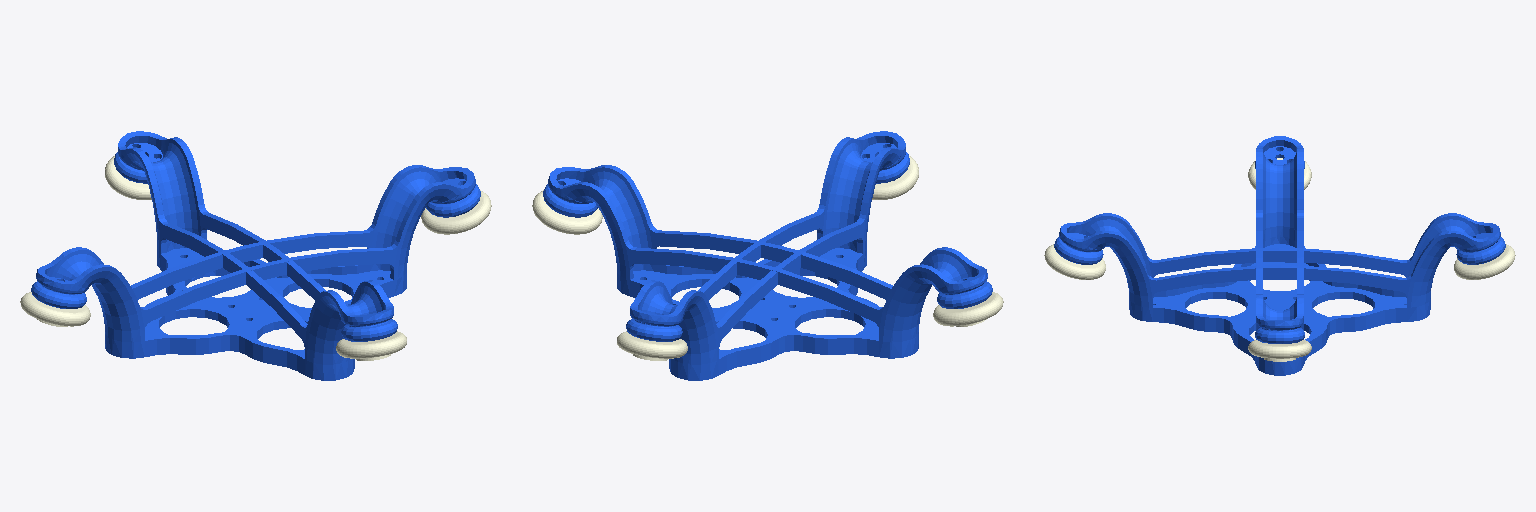
robot.urdf — urdfv3:
<?xml version="1.0" encoding="utf-8"?>
<!-- Leg mass = 104.5g -->
<robot
  name="urdfv3">
  <link
    name="base_link">
    <inertial>
      <origin
        xyz="-1.3924E-06 1.7287E-08 0.022244"
        rpy="0 0 0" />
      <mass
        value="0.16244" />
      <inertia
        ixx="0.00059409"
        ixy="-1.7928E-10"
        ixz="-3.4405E-09"
        iyy="0.0005941"
        iyz="3.8719E-11"
        izz="0.0010669" />
    </inertial>
    <visual>
      <origin
        xyz="0 0 0"
        rpy="0 0 0" />
      <geometry>
        <mesh
          filename="package://urdfv3/meshes/base_link.STL" />
      </geometry>
      <material
        name="TPU">
        <color
          rgba="0.21961 0.47843 1 1" />
      </material>
    </visual>
    <collision>
      <origin
        xyz="0 0 0"
        rpy="0 0 0" />
      <geometry>
        <mesh
          filename="package://urdfv3/meshes/base_link.STL" />
      </geometry>
    </collision>
  </link>
  <link
    name="l1_1">
    <inertial>
      <origin
        xyz="0 -5.8677E-19 0"
        rpy="0 0 0" />
      <mass
        value="0.006333" />
      <inertia
        ixx="6.23E-07"
        ixy="0.9885E-22"
        ixz="-1.11174E-22"
        iyy="6.23E-07"
        iyz="-2.99474E-24"
        izz="1.19553E-06" />
    </inertial>
    <visual>
      <origin
        xyz="0 0 0"
        rpy="0 0 0" />
      <geometry>
        <mesh
          filename="package://urdfv3/meshes/l1.STL" />
      </geometry>
      <material
        name="Elastico">
        <color
          rgba="1 1 0.9 1" />
      </material>
    </visual>
    <collision>
      <origin
        xyz="0 0 0"
        rpy="0 0 0" />
      <geometry>
        <mesh
          filename="package://urdfv3/meshes/l1.STL" />
      </geometry>
    </collision>
  </link>
  <joint
    name="j1_0"
    type="fixed">
    <origin
      xyz="0 -0.1288 0.035097"
      rpy="0 -0.2618 -1.5708" />
    <parent
      link="base_link" />
    <child
      link="l1_1" />
    <axis
      xyz="0 0 0" />
  </joint>
  <link
    name="l1_2">
    <inertial>
      <origin
        xyz="0 3.3184E-20 0"
        rpy="0 0 0" />
      <mass
        value="0.0010556" />
      <inertia
        ixx="2.8047E-08"
        ixy="-9.51715E-25"
        ixz="8.0453E-24"
        iyy="2.8047E-08"
        iyz="-4.6553E-24"
        izz="5.5379E-08" />
    </inertial>
    <visual>
      <origin
        xyz="0 0 0"
        rpy="0 0 0" />
      <geometry>
        <mesh
          filename="package://urdfv3/meshes/l2.STL" />
      </geometry>
      <material
        name="Elastico">
        <color
          rgba="1 1 0.9 1" />
      </material>
    </visual>
    <collision>
      <origin
        xyz="0 0 0"
        rpy="0 0 0" />
      <geometry>
        <mesh
          filename="package://urdfv3/meshes/l2.STL" />
      </geometry>
    </collision>
  </link>
  <joint
    name="j1_p1"
    type="prismatic">
    <origin
      xyz="0 0 -0.006"
      rpy="0 0 0" />
    <parent
      link="l1_1" />
    <child
      link="l1_2" />
    <axis
      xyz="0 0 1" />
    <limit
      lower="-0.001"
      upper="0.001"
      effort="0"
      velocity="0" />
  </joint>
  <link
    name="l1_3">
    <inertial>
      <origin
        xyz="0 -1.0812E-19 -3.4694E-18"
        rpy="0 0 0" />
      <mass
        value="0.0010556" />
      <inertia
        ixx="2.8047E-08"
        ixy="-8.7806E-26"
        ixz="-1.4624E-24"
        iyy="2.8047E-08"
        iyz="-1.71765E-24"
        izz="5.5379E-08" />
    </inertial>
    <visual>
      <origin
        xyz="0 0 0"
        rpy="0 0 0" />
      <geometry>
        <mesh
          filename="package://urdfv3/meshes/l2.STL" />
      </geometry>
      <material
        name="Elastico">
        <color
          rgba="1 1 0.9 1" />
      </material>
    </visual>
    <collision>
      <origin
        xyz="0 0 0"
        rpy="0 0 0" />
      <geometry>
        <mesh
          filename="package://urdfv3/meshes/l2.STL" />
      </geometry>
    </collision>
  </link>
  <joint
    name="j1_rx1"
    type="revolute">
    <origin
      xyz="0 0 0"
      rpy="0 0 0" />
    <parent
      link="l1_2" />
    <child
      link="l1_3" />
    <axis
      xyz="1 0 0" />
    <limit
      lower="-0.2"
      upper="0.2"
      effort="0"
      velocity="0" />
  </joint>
  <link
    name="l1_4">
    <inertial>
      <origin
        xyz="0 -1.1116E-19 3.4694E-18"
        rpy="0 0 0" />
      <mass
        value="0.0010556" />
      <inertia
        ixx="2.8047E-08"
        ixy="4.764E-26"
        ixz="1.6544E-24"
        iyy="2.8047E-08"
        iyz="-1.7301E-24"
        izz="5.5379E-08" />
    </inertial>
    <visual>
      <origin
        xyz="0 0 0"
        rpy="0 0 0" />
      <geometry>
        <mesh
          filename="package://urdfv3/meshes/l2.STL" />
      </geometry>
      <material
        name="Elastico">
        <color
          rgba="1 1 0.9 1" />
      </material>
    </visual>
    <collision>
      <origin
        xyz="0 0 0"
        rpy="0 0 0" />
      <geometry>
        <mesh
          filename="package://urdfv3/meshes/l2.STL" />
      </geometry>
    </collision>
  </link>
  <joint
    name="j1_ry1"
    type="revolute">
    <origin
      xyz="0 0 0"
      rpy="0 0 0" />
    <parent
      link="l1_3" />
    <child
      link="l1_4" />
    <axis
      xyz="0 1 0" />
    <limit
      lower="-0.2"
      upper="0.2"
      effort="0"
      velocity="0" />
  </joint>
  <link
    name="l2_1">
    <inertial>
      <origin
        xyz="0 -7.034E-19 6.9389E-18"
        rpy="0 0 0" />
      <mass
        value="0.006333" />
      <inertia
        ixx="6.23E-07"
        ixy="8.6395E-23"
        ixz="-1.4558E-22"
        iyy="6.23E-07"
        iyz="-1.43E-23"
        izz="1.19553E-06" />
    </inertial>
    <visual>
      <origin
        xyz="0 0 0"
        rpy="0 0 0" />
      <geometry>
        <mesh
          filename="package://urdfv3/meshes/l1.STL" />
      </geometry>
      <material
        name="Elastico">
        <color
          rgba="1 1 0.9 1" />
      </material>
    </visual>
    <collision>
      <origin
        xyz="0 0 0"
        rpy="0 0 0" />
      <geometry>
        <mesh
          filename="package://urdfv3/meshes/l1.STL" />
      </geometry>
    </collision>
  </link>
  <joint
    name="j2_0"
    type="fixed">
    <origin
      xyz="0.1288 0 0.035097"
      rpy="0 -0.2618 0" />
    <parent
      link="base_link" />
    <child
      link="l2_1" />
    <axis
      xyz="0 0 0" />
  </joint>
  <link
    name="l2_2">
    <inertial>
      <origin
        xyz="0 4.5623E-19 3.4694E-18"
        rpy="0 0 0" />
      <mass
        value="0.0010556" />
      <inertia
        ixx="2.8047E-08"
        ixy="-5.2491E-25"
        ixz="6.6174E-24"
        iyy="2.8047E-08"
        iyz="-2.3888E-24"
        izz="5.5379E-08" />
    </inertial>
    <visual>
      <origin
        xyz="0 0 0"
        rpy="0 0 0" />
      <geometry>
        <mesh
          filename="package://urdfv3/meshes/l2.STL" />
      </geometry>
      <material
        name="Elastico">
        <color
          rgba="1 1 0.9 1" />
      </material>
    </visual>
    <collision>
      <origin
        xyz="0 0 0"
        rpy="0 0 0" />
      <geometry>
        <mesh
          filename="package://urdfv3/meshes/l2.STL" />
      </geometry>
    </collision>
  </link>
  <joint
    name="j2_p1"
    type="prismatic">
    <origin
      xyz="0 0 -0.006"
      rpy="0 0 0" />
    <parent
      link="l2_1" />
    <child
      link="l2_2" />
    <axis
      xyz="0 0 1" />
    <limit
      lower="-0.001"
      upper="0.001"
      effort="0"
      velocity="0" />
  </joint>
  <link
    name="l2_3">
    <inertial>
      <origin
        xyz="0 1.1878E-19 0"
        rpy="0 0 0" />
      <mass
        value="0.0010556" />
      <inertia
        ixx="2.8047E-08"
        ixy="-4.0475E-26"
        ixz="2.068E-24"
        iyy="2.8047E-08"
        iyz="-1.1492E-25"
        izz="5.5379E-08" />
    </inertial>
    <visual>
      <origin
        xyz="0 0 0"
        rpy="0 0 0" />
      <geometry>
        <mesh
          filename="package://urdfv3/meshes/l2.STL" />
      </geometry>
      <material
        name="Elastico">
        <color
          rgba="1 1 0.9 1" />
      </material>
    </visual>
    <collision>
      <origin
        xyz="0 0 0"
        rpy="0 0 0" />
      <geometry>
        <mesh
          filename="package://urdfv3/meshes/l2.STL" />
      </geometry>
    </collision>
  </link>
  <joint
    name="j2_rx1"
    type="revolute">
    <origin
      xyz="0 0 0"
      rpy="0 0 0" />
    <parent
      link="l2_2" />
    <child
      link="l2_3" />
    <axis
      xyz="1 0 0" />
    <limit
      lower="-0.2"
      upper="0.2"
      effort="0"
      velocity="0" />
  </joint>
  <link
    name="l2_4">
    <inertial>
      <origin
        xyz="0 6.3442E-19 3.4694E-18"
        rpy="0 0 0" />
      <mass
        value="0.0010556" />
      <inertia
        ixx="2.8047E-08"
        ixy="8.5299E-26"
        ixz="2.8951E-24"
        iyy="2.8047E-08"
        iyz="-1.3763E-24"
        izz="5.5379E-08" />
    </inertial>
    <visual>
      <origin
        xyz="0 0 0"
        rpy="0 0 0" />
      <geometry>
        <mesh
          filename="package://urdfv3/meshes/l2.STL" />
      </geometry>
      <material
        name="Elastico">
        <color
          rgba="1 1 0.9 1" />
      </material>
    </visual>
    <collision>
      <origin
        xyz="0 0 0"
        rpy="0 0 0" />
      <geometry>
        <mesh
          filename="package://urdfv3/meshes/l2.STL" />
      </geometry>
    </collision>
  </link>
  <joint
    name="j2_ry1"
    type="revolute">
    <origin
      xyz="0 0 0"
      rpy="0 0 0" />
    <parent
      link="l2_3" />
    <child
      link="l2_4" />
    <axis
      xyz="0 1 0" />
    <limit
      lower="-0.2"
      upper="0.2"
      effort="0"
      velocity="0" />
  </joint>
  <link
    name="l3_1">
    <inertial>
      <origin
        xyz="0 -7.8102E-19 -6.9389E-18"
        rpy="0 0 0" />
      <mass
        value="0.006333" />
      <inertia
        ixx="6.23E-07"
        ixy="1.1145E-22"
        ixz="-6.6174E-23"
        iyy="6.23E-07"
        iyz="3.6027E-24"
        izz="1.19553E-06" />
    </inertial>
    <visual>
      <origin
        xyz="0 0 0"
        rpy="0 0 0" />
      <geometry>
        <mesh
          filename="package://urdfv3/meshes/l1.STL" />
      </geometry>
      <material
        name="Elastico">
        <color
          rgba="1 1 0.9 1" />
      </material>
    </visual>
    <collision>
      <origin
        xyz="0 0 0"
        rpy="0 0 0" />
      <geometry>
        <mesh
          filename="package://urdfv3/meshes/l1.STL" />
      </geometry>
    </collision>
  </link>
  <joint
    name="j3_0"
    type="fixed">
    <origin
      xyz="0 0.1288 0.035097"
      rpy="0 -0.2618 1.5708" />
    <parent
      link="base_link" />
    <child
      link="l3_1" />
    <axis
      xyz="0 0 0" />
  </joint>
  <link
    name="l3_2">
    <inertial>
      <origin
        xyz="0 1.5954E-19 -6.9389E-18"
        rpy="0 0 0" />
      <mass
        value="0.0010556" />
      <inertia
        ixx="2.8047E-08"
        ixy="-5.3647E-25"
        ixz="8.0453E-24"
        iyy="2.8047E-08"
        iyz="-2.2598E-24"
        izz="5.5379E-08" />
    </inertial>
    <visual>
      <origin
        xyz="0 0 0"
        rpy="0 0 0" />
      <geometry>
        <mesh
          filename="package://urdfv3/meshes/l2.STL" />
      </geometry>
      <material
        name="Elastico">
        <color
          rgba="1 1 0.9 1" />
      </material>
    </visual>
    <collision>
      <origin
        xyz="0 0 0"
        rpy="0 0 0" />
      <geometry>
        <mesh
          filename="package://urdfv3/meshes/l2.STL" />
      </geometry>
    </collision>
  </link>
  <joint
    name="j3_p1"
    type="prismatic">
    <origin
      xyz="0 0 -0.006"
      rpy="0 0 0" />
    <parent
      link="l3_1" />
    <child
      link="l3_2" />
    <axis
      xyz="0 0 1" />
    <limit
      lower="-0.001"
      upper="0.001"
      effort="0"
      velocity="0" />
  </joint>
  <link
    name="l3_3">
    <inertial>
      <origin
        xyz="0 -1.4524E-19 -3.4694E-18"
        rpy="0 0 0" />
      <mass
        value="0.0010556" />
      <inertia
        ixx="2.8047E-08"
        ixy="-5.3701E-26"
        ixz="0"
        iyy="2.8047E-08"
        iyz="-5.1009E-25"
        izz="5.5379E-08" />
    </inertial>
    <visual>
      <origin
        xyz="0 0 0"
        rpy="0 0 0" />
      <geometry>
        <mesh
          filename="package://urdfv3/meshes/l2.STL" />
      </geometry>
      <material
        name="Elastico">
        <color
          rgba="1 1 0.9 1" />
      </material>
    </visual>
    <collision>
      <origin
        xyz="0 0 0"
        rpy="0 0 0" />
      <geometry>
        <mesh
          filename="package://urdfv3/meshes/l2.STL" />
      </geometry>
    </collision>
  </link>
  <joint
    name="j3_rx1"
    type="revolute">
    <origin
      xyz="0 0 0"
      rpy="0 0 0" />
    <parent
      link="l3_2" />
    <child
      link="l3_3" />
    <axis
      xyz="1 0 0" />
    <limit
      lower="-0.2"
      upper="0.2"
      effort="0"
      velocity="0" />
  </joint>
  <link
    name="l3_4">
    <inertial>
      <origin
        xyz="0 -1.3516E-21 -3.4694E-18"
        rpy="0 0 0" />
      <mass
        value="0.0010556" />
      <inertia
        ixx="2.8047E-08"
        ixy="3.1225E-26"
        ixz="4.1359E-25"
        iyy="2.8047E-08"
        iyz="-1.37E-24"
        izz="5.5379E-08" />
    </inertial>
    <visual>
      <origin
        xyz="0 0 0"
        rpy="0 0 0" />
      <geometry>
        <mesh
          filename="package://urdfv3/meshes/l2.STL" />
      </geometry>
      <material
        name="Elastico">
        <color
          rgba="1 1 0.9 1" />
      </material>
    </visual>
    <collision>
      <origin
        xyz="0 0 0"
        rpy="0 0 0" />
      <geometry>
        <mesh
          filename="package://urdfv3/meshes/l2.STL" />
      </geometry>
    </collision>
  </link>
  <joint
    name="j3_ry1"
    type="revolute">
    <origin
      xyz="0 0 0"
      rpy="0 0 0" />
    <parent
      link="l3_3" />
    <child
      link="l3_4" />
    <axis
      xyz="0 1 0" />
    <limit
      lower="-0.2"
      upper="0.2"
      effort="0"
      velocity="0" />
  </joint>
  <link
    name="l4_1">
    <inertial>
      <origin
        xyz="0 -5.8677E-19 0"
        rpy="0 0 0" />
      <mass
        value="0.006333" />
      <inertia
        ixx="6.23E-07"
        ixy="0.9885E-22"
        ixz="-1.11174E-22"
        iyy="6.23E-07"
        iyz="-2.99474E-24"
        izz="1.19553E-06" />
    </inertial>
    <visual>
      <origin
        xyz="0 0 0"
        rpy="0 0 0" />
      <geometry>
        <mesh
          filename="package://urdfv3/meshes/l1.STL" />
      </geometry>
      <material
        name="Elastico">
          <color
          rgba="1 1 0.9 1" />
      </material>
    </visual>
    <collision>
      <origin
        xyz="0 0 0"
        rpy="0 0 0" />
      <geometry>
        <mesh
          filename="package://urdfv3/meshes/l1.STL" />
      </geometry>
    </collision>
  </link>
  <joint
    name="j4_0"
    type="fixed">
    <origin
      xyz="-0.1288 0 0.035097"
      rpy="0 -0.2618 3.1416" />
    <parent
      link="base_link" />
    <child
      link="l4_1" />
    <axis
      xyz="0 0 0" />
  </joint>
  <link
    name="l4_2">
    <inertial>
      <origin
        xyz="0 4.8757E-19 -6.9389E-18"
        rpy="0 0 0" />
      <mass
        value="0.0010556" />
      <inertia
        ixx="2.8047E-08"
        ixy="-4.7764E-25"
        ixz="4.1359E-24"
        iyy="2.8047E-08"
        iyz="-2.3286E-24"
        izz="5.5379E-08" />
    </inertial>
    <visual>
      <origin
        xyz="0 0 0"
        rpy="0 0 0" />
      <geometry>
        <mesh
          filename="package://urdfv3/meshes/l2.STL" />
      </geometry>
      <material
        name="Elastico">
        <color
          rgba="1 1 0.9 1" />
      </material>
    </visual>
    <collision>
      <origin
        xyz="0 0 0"
        rpy="0 0 0" />
      <geometry>
        <mesh
          filename="package://urdfv3/meshes/l2.STL" />
      </geometry>
    </collision>
  </link>
  <joint
    name="j4_p1"
    type="prismatic">
    <origin
      xyz="0 0 -0.006"
      rpy="0 0 0" />
    <parent
      link="l4_1" />
    <child
      link="l4_2" />
    <axis
      xyz="0 0 1" />
    <limit
      lower="-0.001"
      upper="0.001"
      effort="0"
      velocity="0" />
  </joint>
  <link
    name="l4_3">
    <inertial>
      <origin
        xyz="0 3.35804994851586E-19 -3.46944695195361E-18"
        rpy="0 0 0" />
      <mass
        value="0.001055602604182062" />
      <inertia
        ixx="2.80470246735844E-08"
        ixy="-1.13157348651793E-26"
        ixz="2.06795153138251E-24"
        iyy="2.80470246735844E-08"
        iyz="-5.15861549781706E-26"
        izz="3.13225584022334E-08" />
    </inertial>
    <visual>
      <origin
        xyz="0 0 0"
        rpy="0 0 0" />
      <geometry>
        <mesh
          filename="package://urdfv3/meshes/l2.STL" />
      </geometry>
      <material
        name="Elastico">
        <color
          rgba="1 1 0.9 1" />
      </material>
    </visual>
    <collision>
      <origin
        xyz="0 0 0"
        rpy="0 0 0" />
      <geometry>
        <mesh
          filename="package://urdfv3/meshes/l2.STL" />
      </geometry>
    </collision>
  </link>
  <joint
    name="j4_rx1"
    type="revolute">
    <origin
      xyz="0 0 0"
      rpy="0 0 0" />
    <parent
      link="l4_2" />
    <child
      link="l4_3" />
    <axis
      xyz="1 0 0" />
    <limit
      lower="-0.2"
      upper="0.2"
      effort="0"
      velocity="0" />
  </joint>
  <link
    name="l4_4">
    <inertial>
      <origin
        xyz="0 3.93106983422941E-19 -3.46944695195361E-18"
        rpy="0 0 0" />
      <mass
        value="0.001055602604182062" />
      <inertia
        ixx="2.80470246735844E-08"
        ixy="1.20075620032431E-25"
        ixz="1.65436122510599E-24"
        iyy="2.80470246735844E-08"
        iyz="-1.30934663161182E-24"
        izz="3.13225584022333E-08" />
    </inertial>
    <visual>
      <origin
        xyz="0 0 0"
        rpy="0 0 0" />
      <geometry>
        <mesh
          filename="package://urdfv3/meshes/l2.STL" />
      </geometry>
      <material
        name="Elastico">
        <color
          rgba="1 1 0.9 1" />
      </material>
    </visual>
    <collision>
      <origin
        xyz="0 0 0"
        rpy="0 0 0" />
      <geometry>
        <mesh
          filename="package://urdfv3/meshes/l2.STL" />
      </geometry>
    </collision>
  </link>
  <joint
    name="j4_ry1"
    type="revolute">
    <origin
      xyz="0 0 0"
      rpy="0 0 0" />
    <parent
      link="l4_3" />
    <child
      link="l4_4" />
    <axis
      xyz="0 1 0" />
    <limit
      lower="-0.2"
      upper="0.2"
      effort="0"
      velocity="0" />
  </joint>
</robot>

--- Render facts (derived) ---
The picture shows the robot from 3 angles, left to right: view 1: azimuth 30°, elevation 25°; view 2: azimuth 150°, elevation 25°; view 3: azimuth 270°, elevation 25°; orthographic projection.
Robot: urdfv3 — 17 links, 16 joints (8 revolute, 4 prismatic, 4 fixed); root link base_link; default pose: all joints at 0.
Visible links, largest first — view 1: base_link, l2_1, l4_1, l1_1, l3_1; view 2: base_link, l2_1, l4_1, l3_1, l1_1; view 3: base_link, l1_1, l3_1, l2_1.
Boxes of the visible links, x1,y1,x2,y2 form: base_link: (31, 131, 480, 380); l2_1: (421, 190, 491, 234); l4_1: (20, 292, 90, 326); l1_1: (336, 331, 406, 358); l3_1: (105, 156, 151, 199); base_link: (543, 131, 992, 380); l2_1: (532, 190, 602, 234); l4_1: (933, 292, 1003, 326); l3_1: (617, 331, 687, 358); l1_1: (872, 156, 918, 199); base_link: (1054, 136, 1505, 375); l1_1: (1044, 244, 1105, 279); l3_1: (1454, 244, 1515, 279); l2_1: (1248, 340, 1311, 358).
Size in the robot's own frame: 0.2965 by 0.2965 by 0.0617 metres.
Meshes: 3 distinct files referenced, 17 mesh visuals loaded (3 binary STL).
